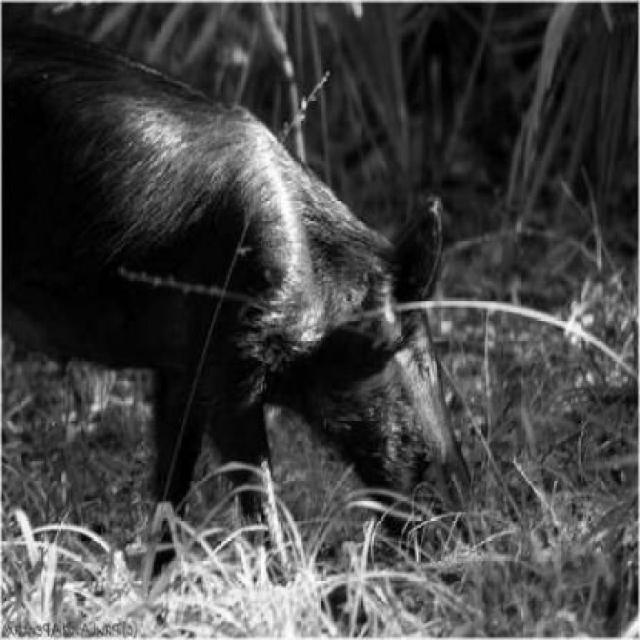Boar: (2, 14, 506, 566)
